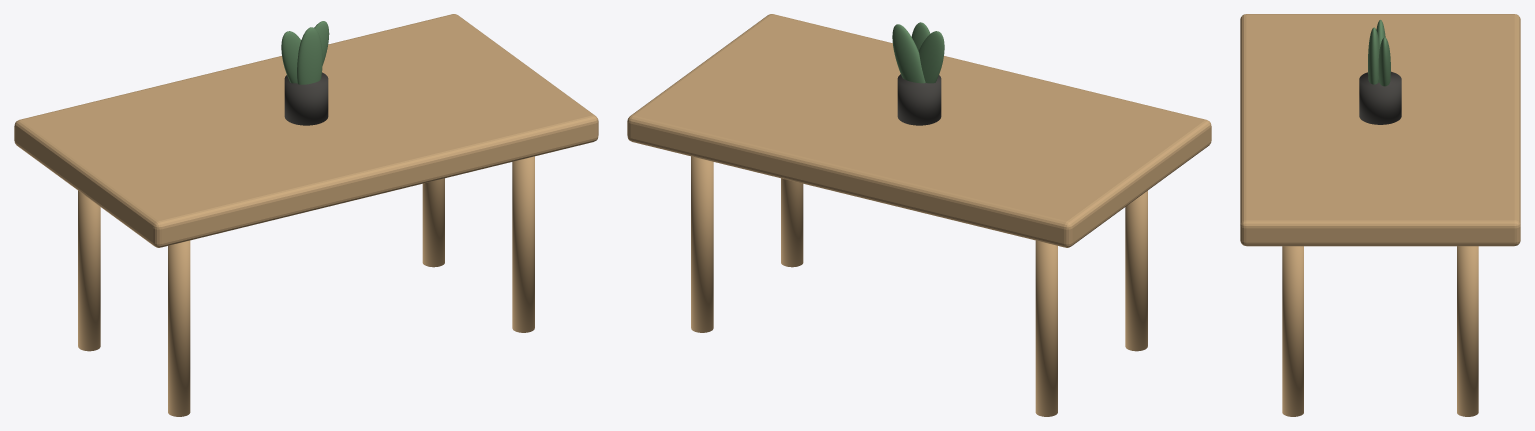
Rendered from dining-table.glb.
3 views of the same model, side by side, from view 1: azimuth 30°, elevation 25°; view 2: azimuth 150°, elevation 25°; view 3: azimuth 270°, elevation 25° (orthographic). The views are drawn at different scales.
Visible parts, largest first — view 1: CANONICAL table top, CANONICAL table leg, CANONICAL table leg.002, CANONICAL table leg.001, CANONICAL table leg.003, ACCENT planter, ACCENT leaf.002, ACCENT leaf; view 2: CANONICAL table top, CANONICAL table leg.001, CANONICAL table leg.003, CANONICAL table leg, CANONICAL table leg.002, ACCENT planter, ACCENT leaf.001, ACCENT leaf; view 3: CANONICAL table top, CANONICAL table leg.002, CANONICAL table leg.003, ACCENT planter, ACCENT leaf.002, ACCENT leaf.001.
Part boxes in pixels (<box>): CANONICAL table top: <box>14,14,598,247</box>; CANONICAL table leg: <box>168,240,190,416</box>; CANONICAL table leg.002: <box>512,156,534,332</box>; CANONICAL table leg.001: <box>78,190,100,351</box>; CANONICAL table leg.003: <box>422,178,444,267</box>; ACCENT planter: <box>284,72,328,125</box>; ACCENT leaf.002: <box>297,27,322,84</box>; ACCENT leaf: <box>281,31,301,83</box>; CANONICAL table top: <box>627,14,1211,247</box>; CANONICAL table leg.001: <box>1035,240,1057,416</box>; CANONICAL table leg.003: <box>691,156,713,332</box>; CANONICAL table leg: <box>1125,190,1147,351</box>; CANONICAL table leg.002: <box>781,178,803,267</box>; ACCENT planter: <box>897,74,941,125</box>; ACCENT leaf.001: <box>892,24,925,83</box>; ACCENT leaf: <box>918,31,944,83</box>; CANONICAL table top: <box>1240,14,1520,246</box>; CANONICAL table leg.002: <box>1282,246,1303,416</box>; CANONICAL table leg.003: <box>1457,246,1478,416</box>; ACCENT planter: <box>1359,71,1401,124</box>; ACCENT leaf.002: <box>1368,27,1379,84</box>; ACCENT leaf.001: <box>1378,37,1390,86</box>.
Size of the model in its own units: 1.6 by 1.07 by 0.9.
